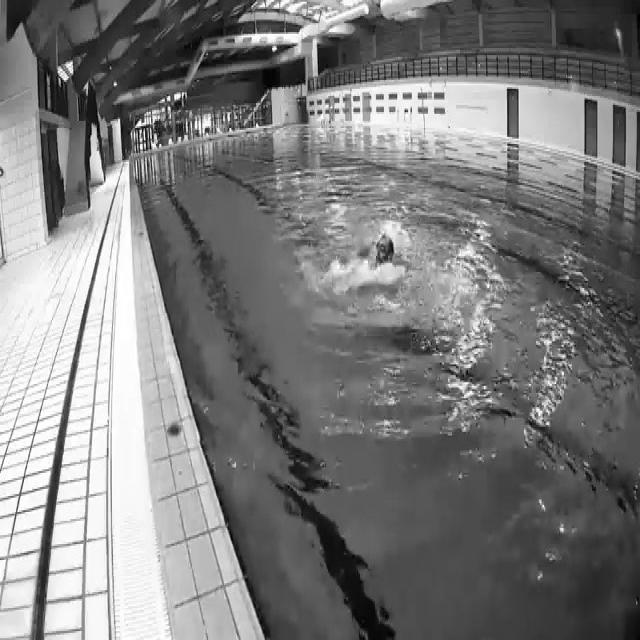Drowning: (344, 200, 412, 302)
